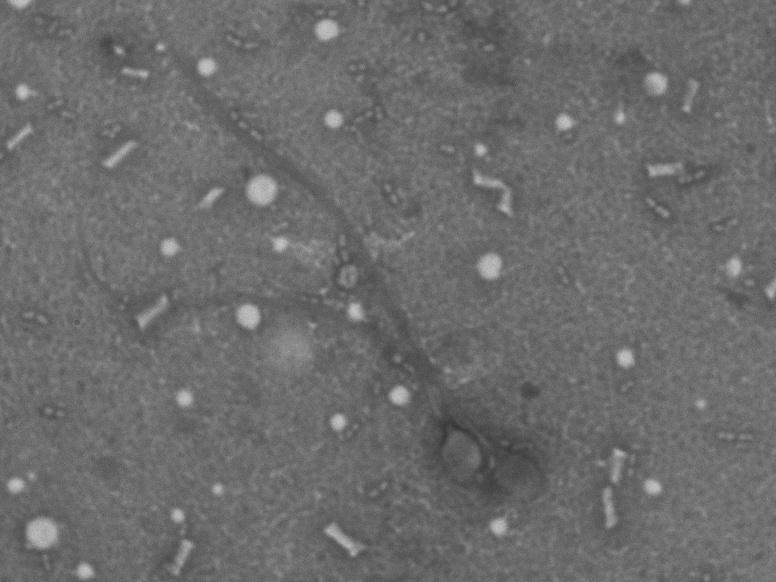Abnormal: (94, 222, 650, 533)
